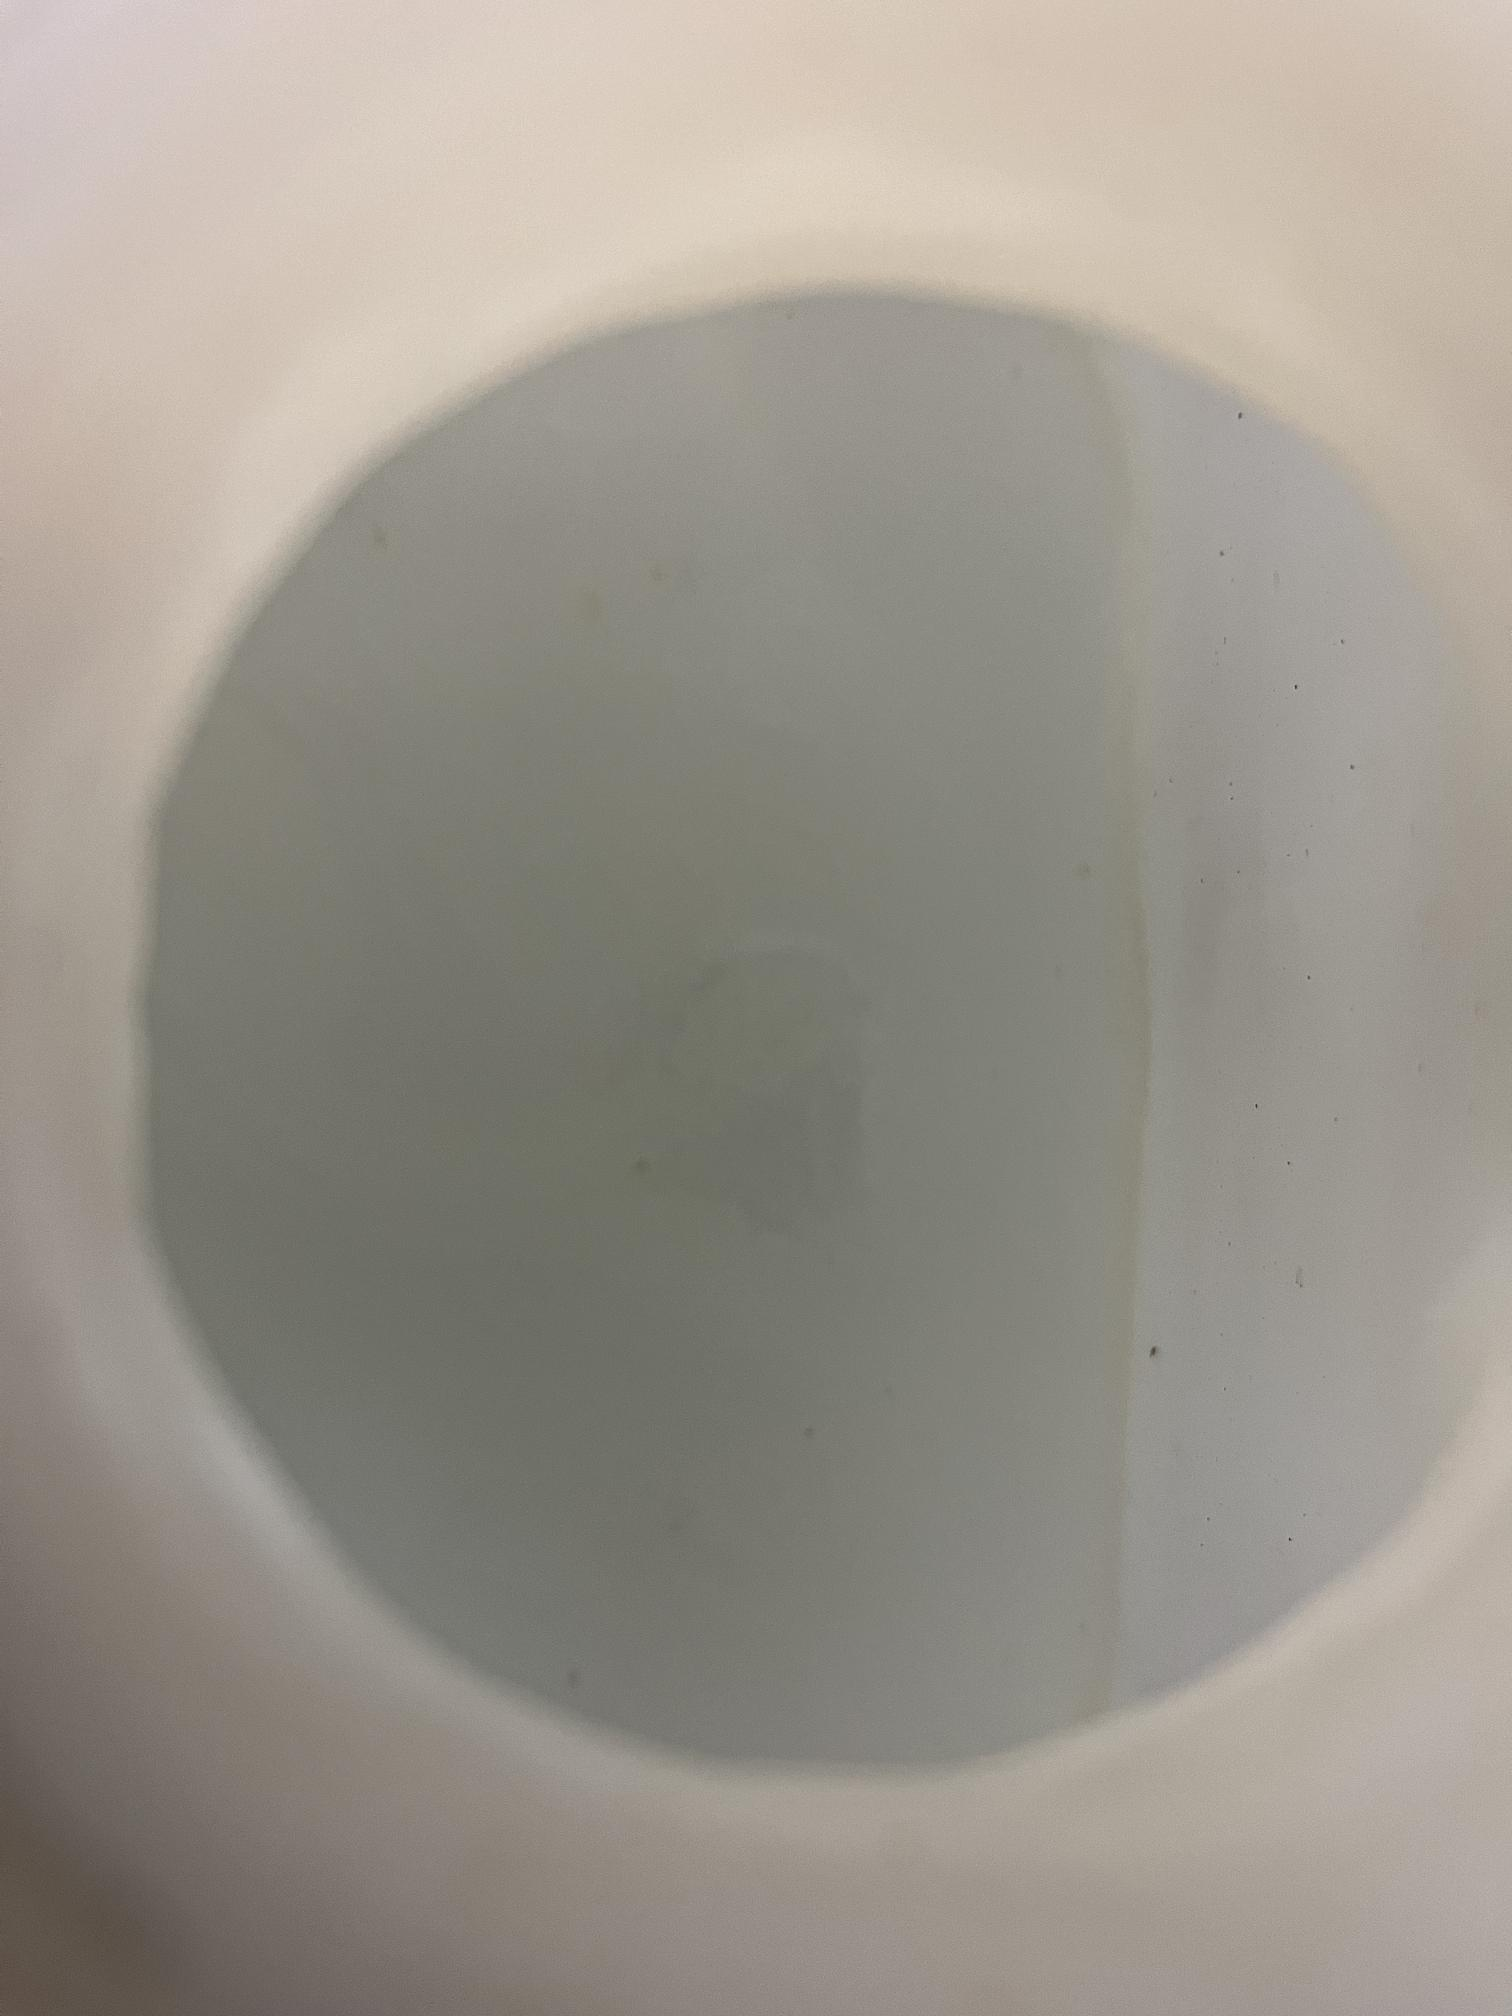Presenca de Oleo - - 10ml: (165, 486, 1364, 1821)
